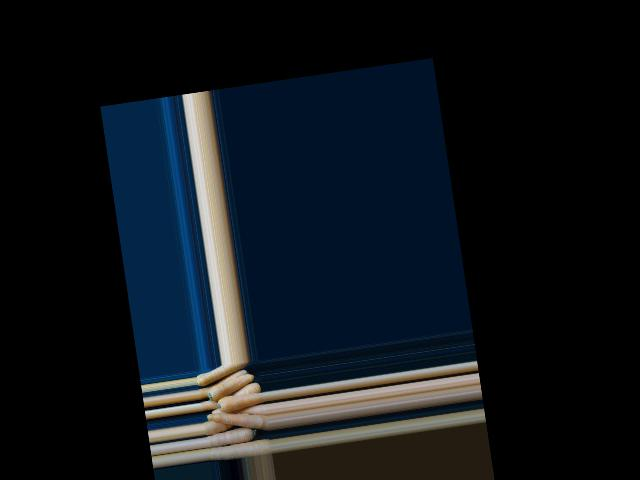carrot: (206, 438, 269, 461)
